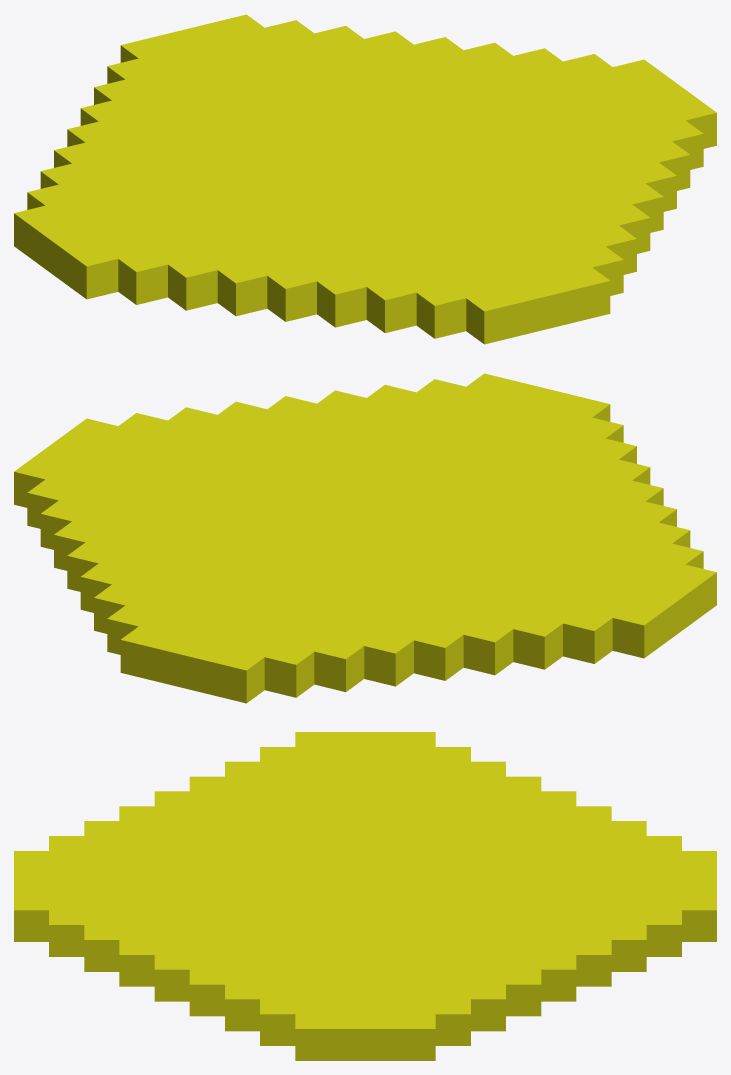
File: Cheese.obj
The picture shows the model from 3 angles, top to bottom: view 1: azimuth 30°, elevation 25°; view 2: azimuth 150°, elevation 25°; view 3: azimuth 270°, elevation 25°; orthographic projection. The views are drawn at different scales.
Size of the model in its own units: 2 by 0.1 by 2.
1 material, 1 textured.
